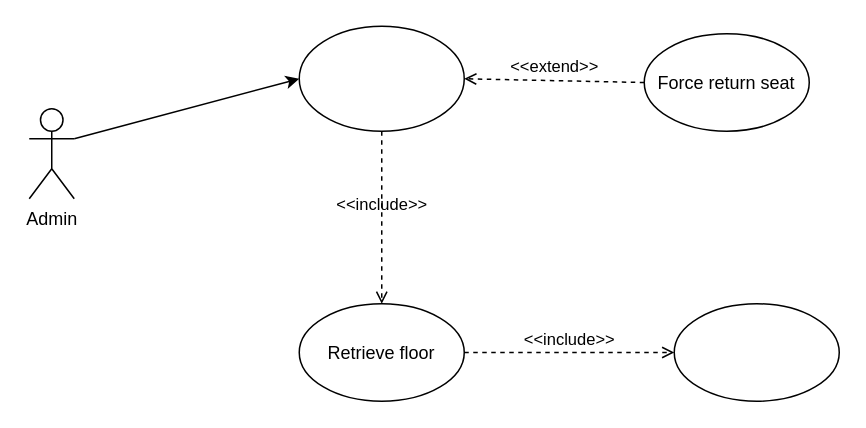
The diagram is 866 pixels wide and 428 high, and some of its shapes have lost their labels. The box of each missing label's shape, as (x1, y1, x2, y2) in pixels:
Retrieve building: (673, 302, 839, 401)
Retrieve seat detail: (298, 25, 464, 131)
